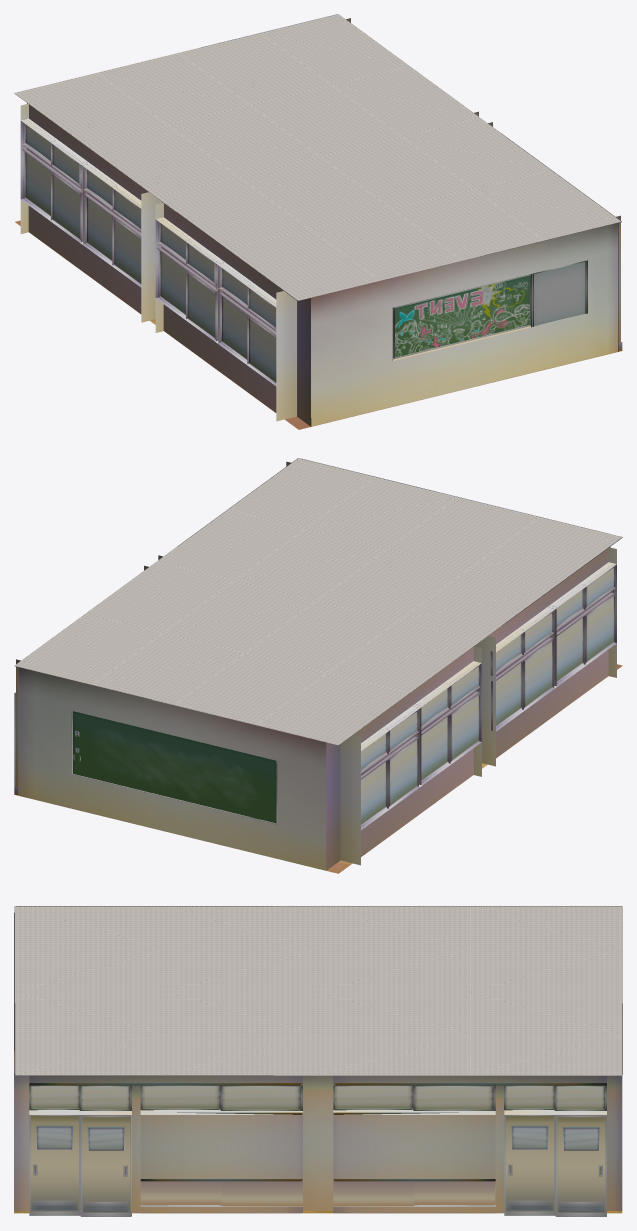
Rendered from JapaneseClassroomModel.FBX.
3 views of the same model, one above another, from view 1: azimuth 30°, elevation 25°; view 2: azimuth 150°, elevation 25°; view 3: azimuth 270°, elevation 25° (orthographic). The views are drawn at different scales.
Parts seen in each view (by area): view 1: crm_ceiling board000, crm_wallL, crm_wallB, crm_blackboardB, crm_floor; view 2: crm_ceiling board000, crm_wallL, rm_wallF, crm_blackboardF; view 3: crm_ceiling board000, crm_wallR, crm_doorL_b, crm_doorL_f, crm_doorR_b, crm_doorR_f.
Boxes of the visible parts, x1,y1,x2,y2 form: crm_ceiling board000: (14,14,621,300); crm_wallL: (20,103,310,426); crm_wallB: (311,223,617,426); crm_blackboardB: (392,273,530,360); crm_floor: (15,220,622,429); crm_ceiling board000: (14,458,622,744); crm_wallL: (326,547,616,870); rm_wallF: (18,667,326,870); crm_blackboardF: (71,711,277,824); crm_ceiling board000: (14,906,622,1075); crm_wallR: (14,1073,622,1215); crm_doorL_b: (80,1115,131,1216); crm_doorL_f: (555,1115,606,1216); crm_doorR_b: (29,1115,80,1215); crm_doorR_f: (504,1115,555,1215).
Bounding box in the file's own units: 828 × 303 × 1201.
